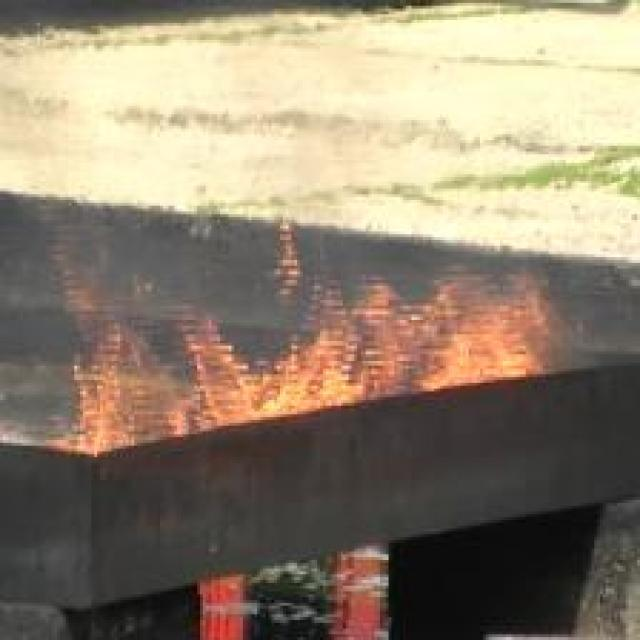Fire: (0, 215, 554, 458)
